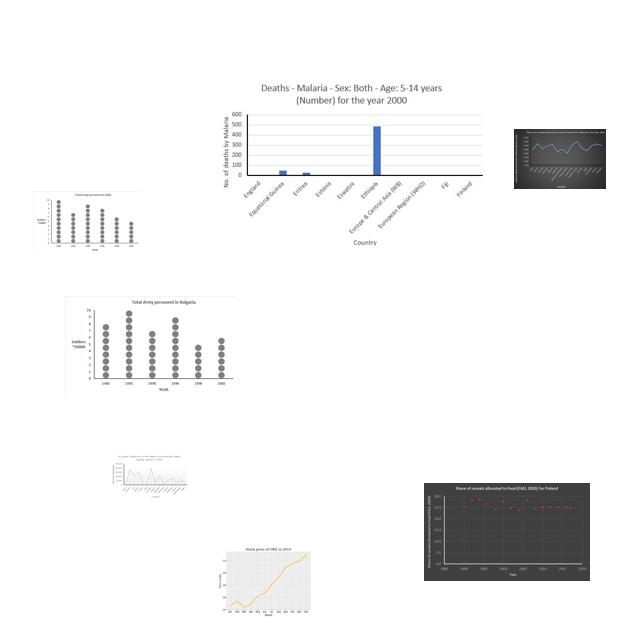Graph: (215, 79, 487, 250), (65, 296, 237, 396), (424, 483, 590, 581), (213, 540, 321, 621), (33, 191, 141, 254), (514, 129, 606, 189), (110, 454, 189, 500)
